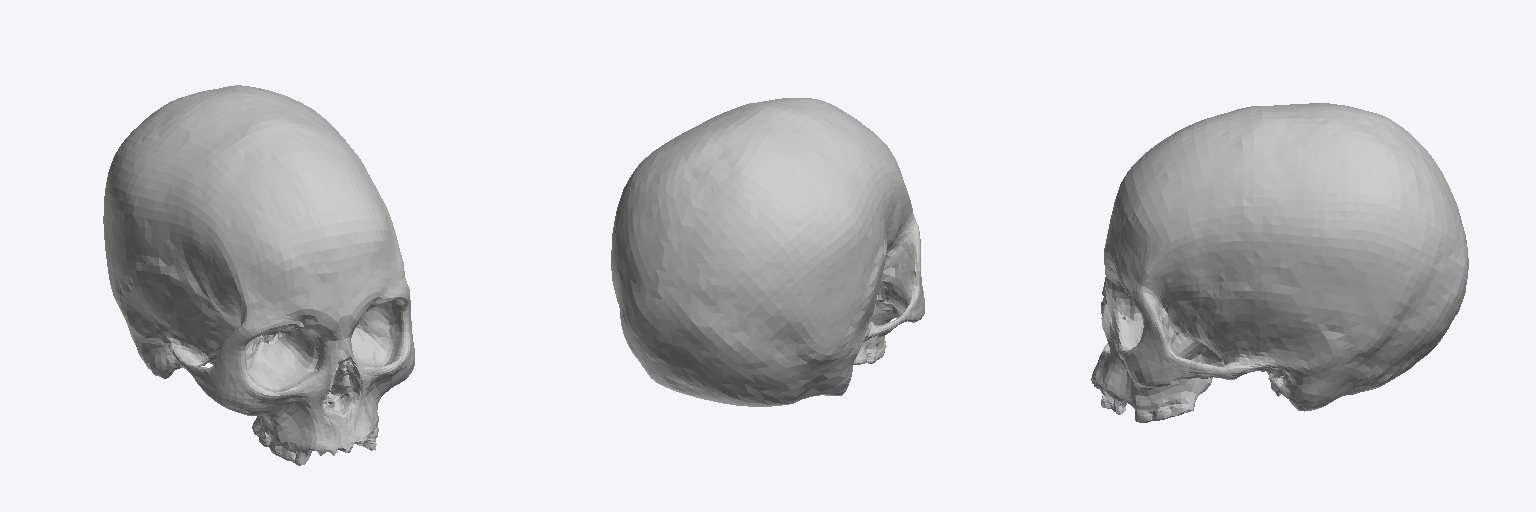
File: Skull_2.obj
3 renders of one model, left to right at view 1: azimuth 30°, elevation 25°; view 2: azimuth 150°, elevation 25°; view 3: azimuth 270°, elevation 25°, orthographic.
Parts seen in each view (by area): view 1: Skull_2_CM_Skull_2.001; view 2: Skull_2_CM_Skull_2.001; view 3: Skull_2_CM_Skull_2.001.
Boxes of the visible parts, x1=… form: Skull_2_CM_Skull_2.001: x1=103, y1=85, x2=414, y2=465; Skull_2_CM_Skull_2.001: x1=611, y1=98, x2=924, y2=406; Skull_2_CM_Skull_2.001: x1=1091, y1=103, x2=1468, y2=422.
Size of the model in its own units: 9.23 by 11.03 by 13.27.